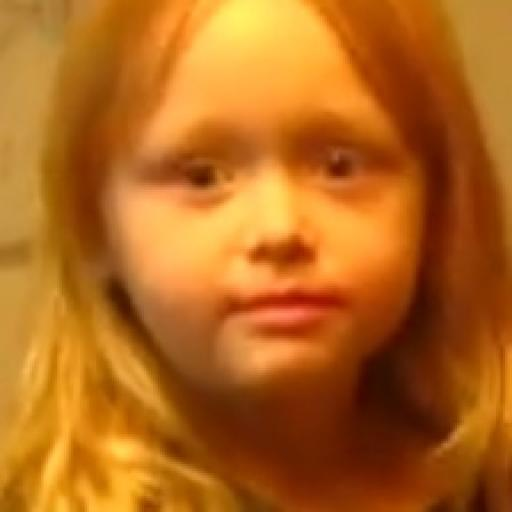Autism: (56, 19, 512, 449)
